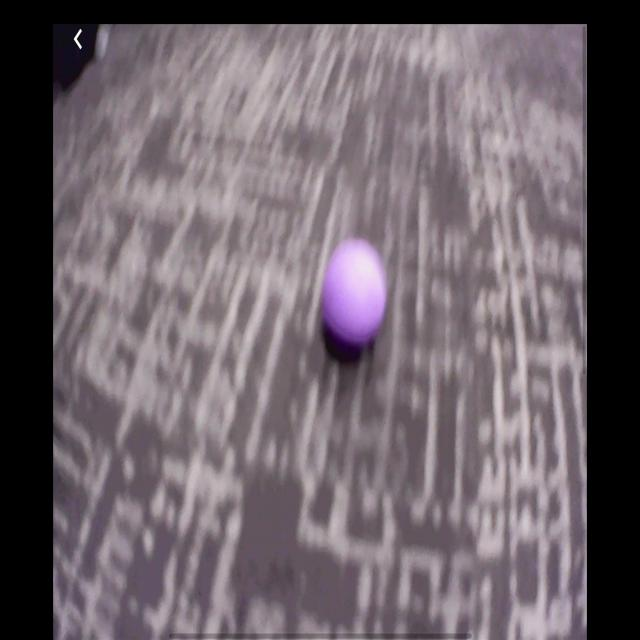ball: (321, 237, 389, 361)
